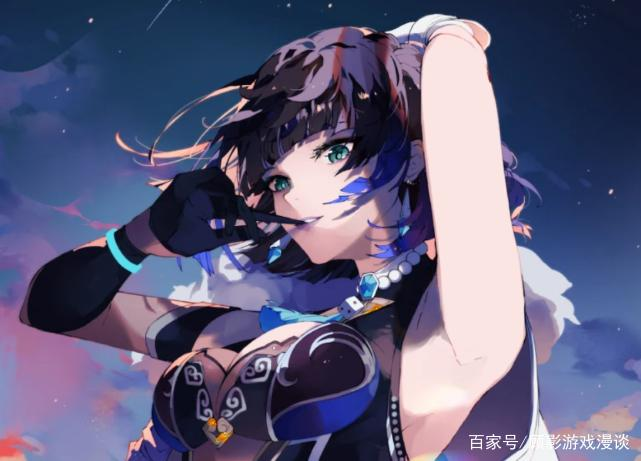夜兰: (16, 11, 525, 461)
